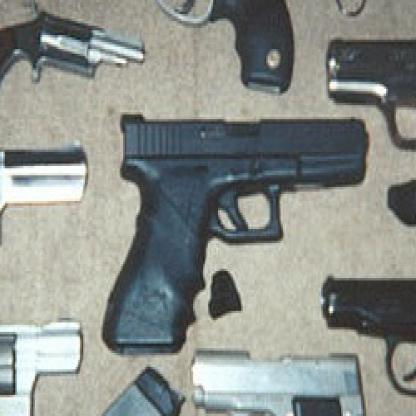gun: (98, 114, 370, 350), (0, 150, 92, 390), (93, 0, 298, 96), (328, 33, 414, 250), (0, 0, 150, 112), (320, 271, 414, 414), (188, 348, 369, 414)
